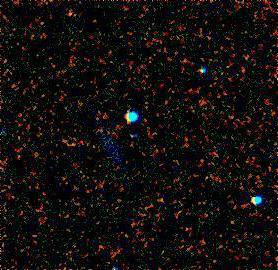star: (52, 0, 82, 29)
